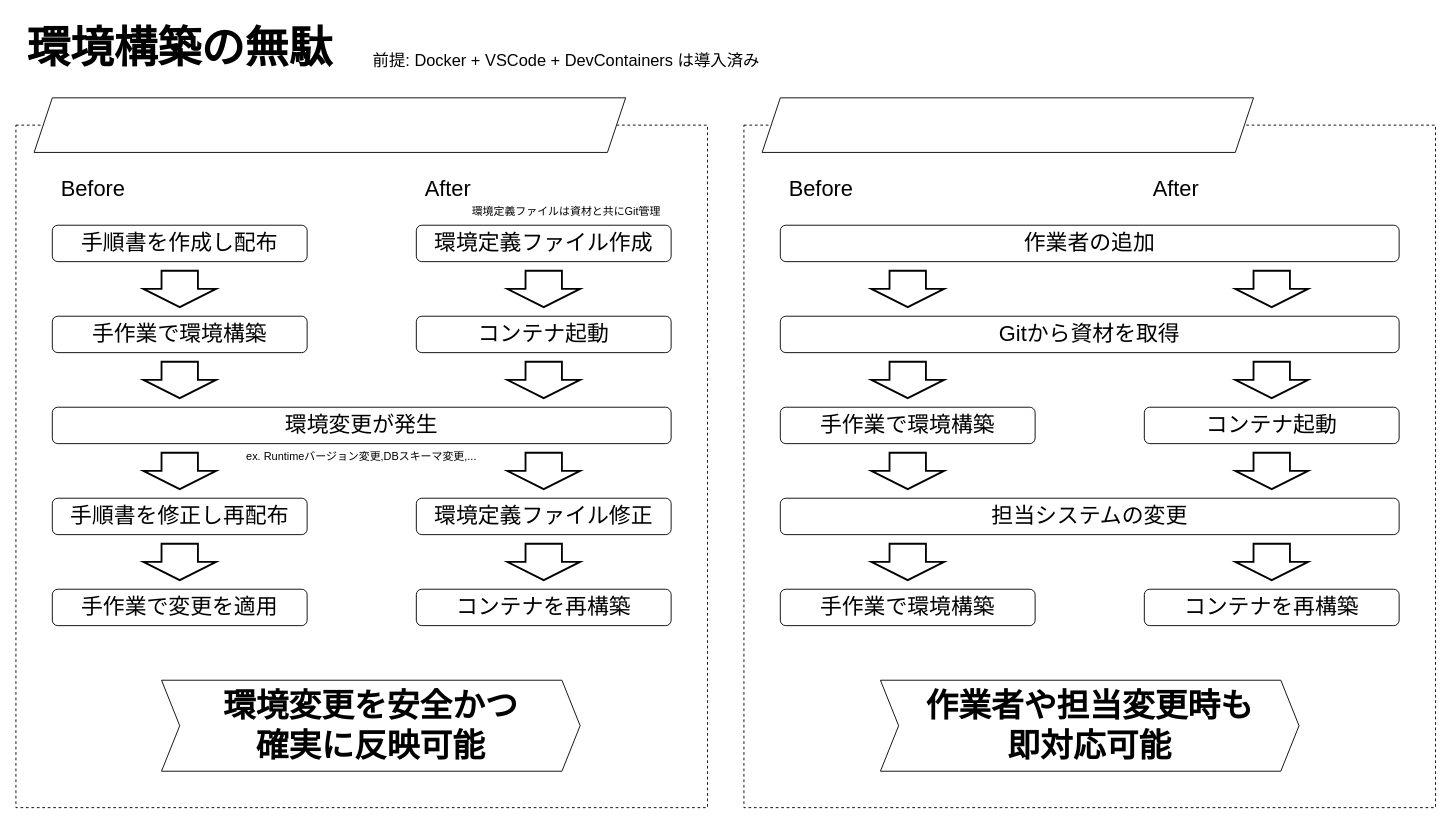
The diagram is 1451 pixels wide and 824 high, and some of its shapes have lost their labels. The shapes that lost their labels are listed below. From the top down, each one's centre as x and y in pixels, then its label:
At pixel 329 124: "When: 初回構築から環境変更の適用".
At pixel 1007 124: "When: 作業者追加と担当変更".
